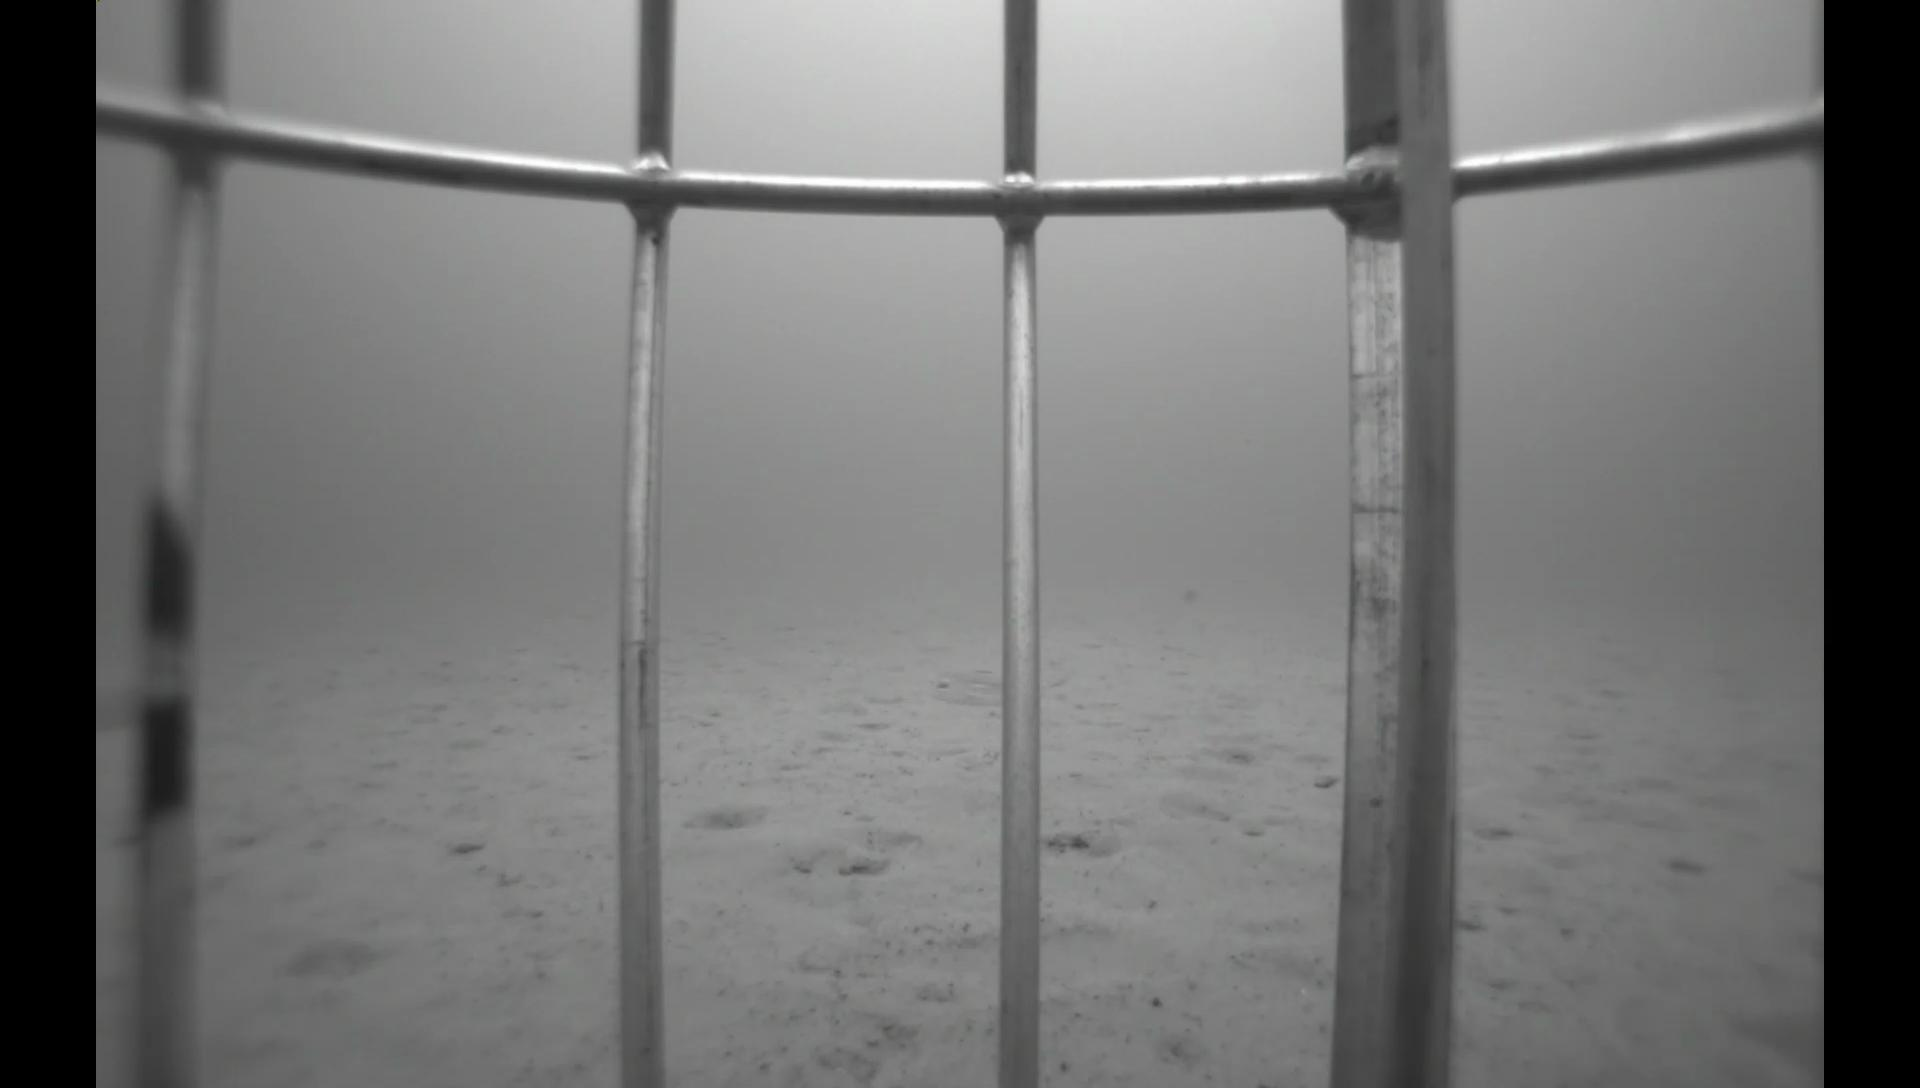CAULOLATILUSCYANOPS-170070101: (922, 662, 1085, 710)
PRISTIPOMOIDES-170151800: (1631, 947, 1825, 1088)
